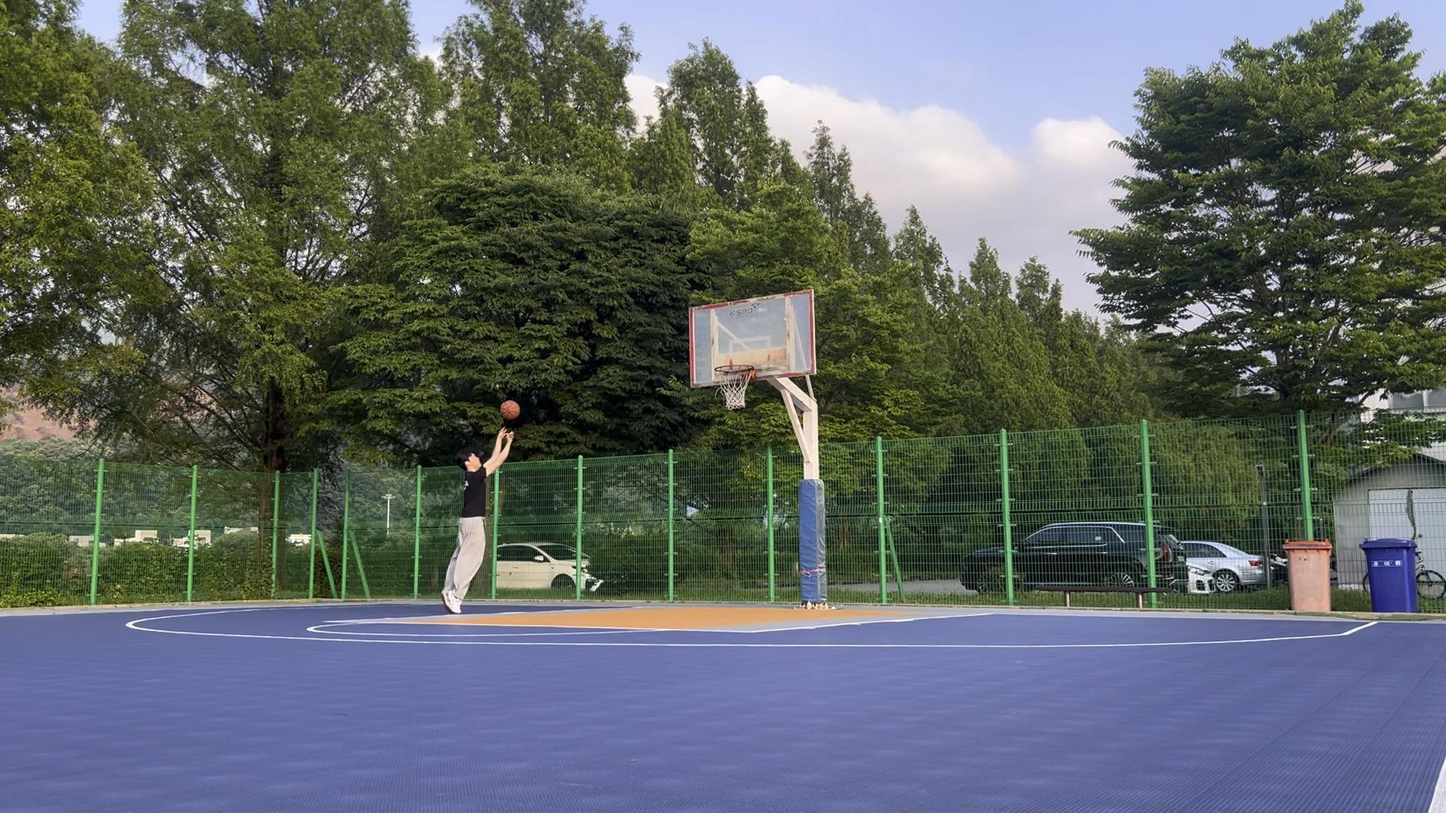ball: (499, 400, 522, 421)
human: (440, 425, 522, 616)
rim: (714, 364, 755, 411)
